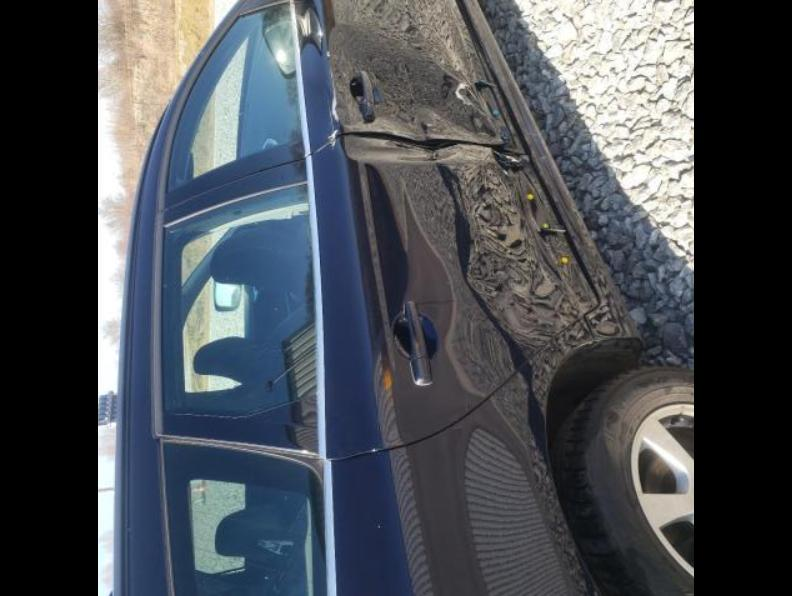Broken part: (336, 126, 532, 169)
Dent: (335, 37, 595, 399)
Missing part: (475, 78, 584, 311)
Scratch: (328, 67, 340, 122), (454, 80, 478, 106), (325, 128, 339, 147), (326, 49, 331, 57)
